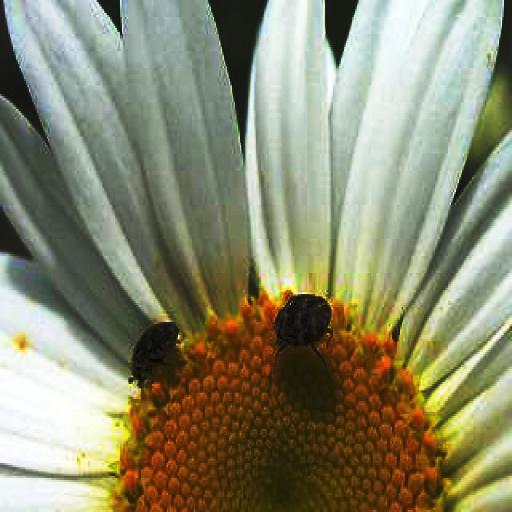daisy: (0, 0, 510, 512)
